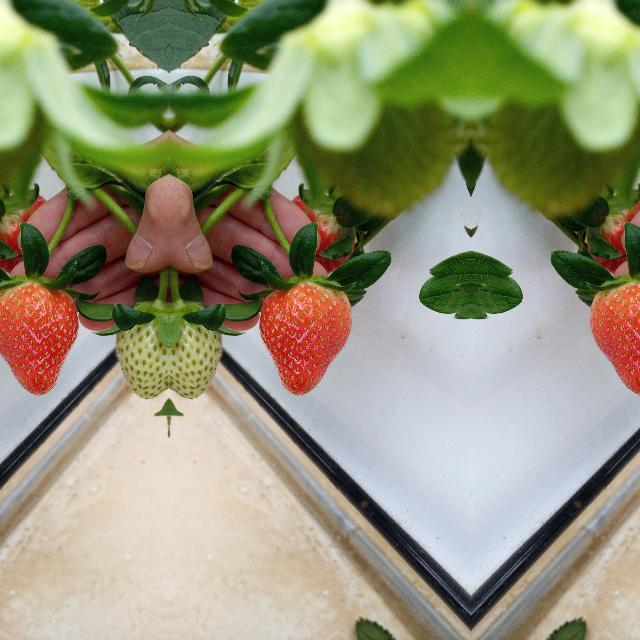Health_100: (258, 278, 352, 396), (0, 278, 78, 396), (589, 278, 640, 396)
Health_25: (170, 290, 222, 408), (114, 290, 166, 408)
